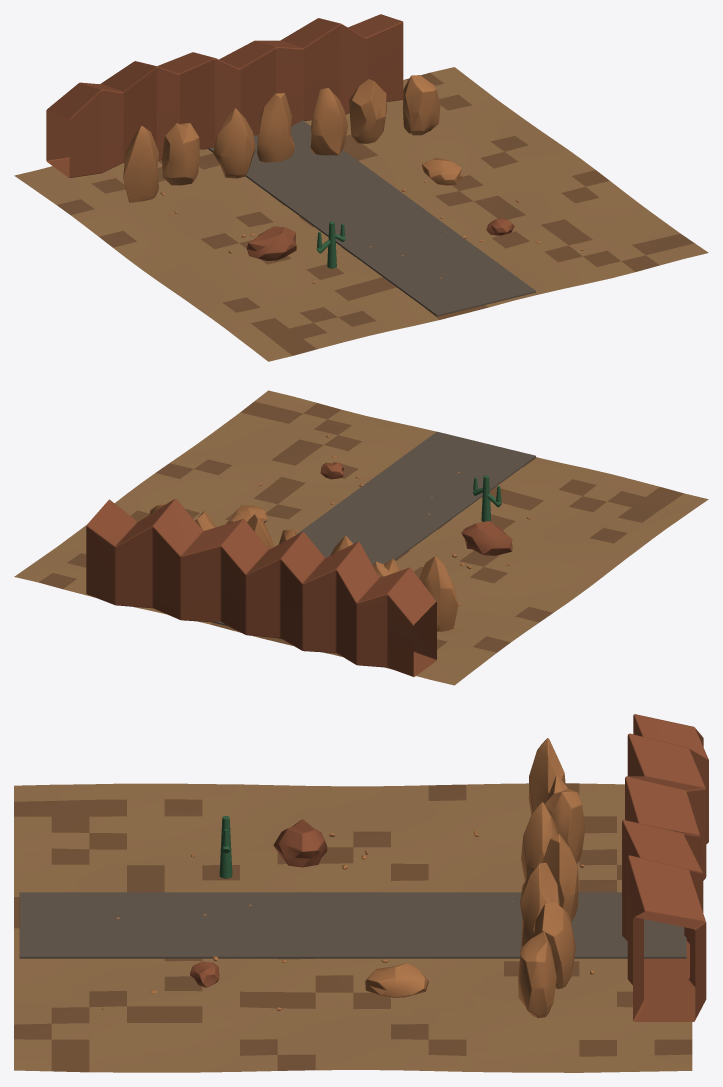
The model's file is desert_prototype_environment_v2.glb.
3 views of the same model, one above another, from view 1: azimuth 30°, elevation 25°; view 2: azimuth 150°, elevation 25°; view 3: azimuth 270°, elevation 25° (orthographic). The views are drawn at different scales.
Parts seen in each view (by area): view 1: Terrain_Varied, Canyon_Deep, Road_V2, Canyon_Buttress, Canyon_Buttress.003, Canyon_Buttress.002, Canyon_Buttress.001, Canyon_Buttress.004, Canyon_Buttress.005, Canyon_Buttress.006, Rock_A, Rock_B; view 2: Terrain_Varied, Canyon_Deep, Road_V2, Canyon_Buttress, Rock_A; view 3: Terrain_Varied, Road_V2, Canyon_Deep, Canyon_Buttress.006, Canyon_Buttress.005, Canyon_Buttress.001, Canyon_Buttress.004, Rock_A, Canyon_Buttress.003, Rock_B, Canyon_Buttress.002, Canyon_Buttress (+1 smaller).
Boxes of the visible parts, left/top/right/bottom form: Terrain_Varied: left=14, top=67, right=708, bottom=361; Canyon_Deep: left=46, top=14, right=403, bottom=177; Road_V2: left=208, top=120, right=535, bottom=316; Canyon_Buttress: left=123, top=125, right=158, bottom=202; Canyon_Buttress.003: left=257, top=93, right=294, bottom=162; Canyon_Buttress.002: left=213, top=108, right=255, bottom=178; Canyon_Buttress.001: left=162, top=123, right=199, bottom=185; Canyon_Buttress.004: left=310, top=88, right=348, bottom=155; Canyon_Buttress.005: left=349, top=79, right=386, bottom=143; Canyon_Buttress.006: left=403, top=75, right=440, bottom=135; Rock_A: left=246, top=226, right=296, bottom=260; Rock_B: left=422, top=157, right=462, bottom=185; Terrain_Varied: left=14, top=390, right=708, bottom=685; Canyon_Deep: left=86, top=499, right=436, bottom=676; Road_V2: left=213, top=431, right=535, bottom=639; Canyon_Buttress: left=419, top=556, right=458, bottom=631; Rock_A: left=461, top=521, right=512, bottom=555; Terrain_Varied: left=14, top=783, right=692, bottom=1072; Road_V2: left=19, top=892, right=686, bottom=958; Canyon_Deep: left=622, top=714, right=708, bottom=1021; Canyon_Buttress.006: left=518, top=931, right=556, bottom=1018; Canyon_Buttress.005: left=534, top=902, right=575, bottom=988; Canyon_Buttress.001: left=544, top=775, right=585, bottom=863; Canyon_Buttress.004: left=520, top=863, right=560, bottom=947; Rock_A: left=273, top=819, right=327, bottom=867; Canyon_Buttress.003: left=542, top=834, right=578, bottom=921; Rock_B: left=365, top=963, right=429, bottom=997; Canyon_Buttress.002: left=521, top=802, right=558, bottom=881; Canyon_Buttress: left=528, top=738, right=565, bottom=815.
Bounding box in the file's own units: 24 × 5.92 × 24.59.
